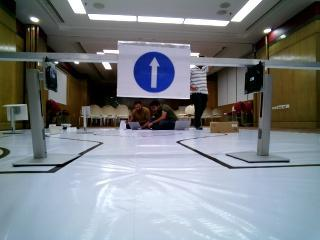straight: (117, 43, 192, 98)
